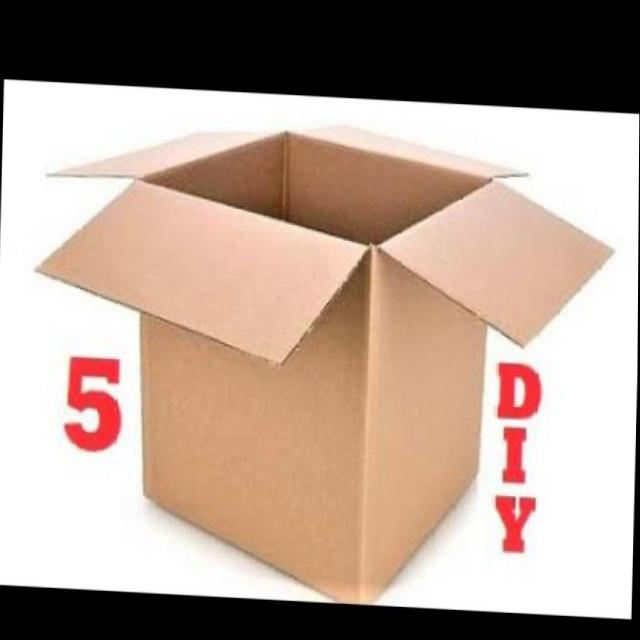box: (15, 80, 618, 610)
